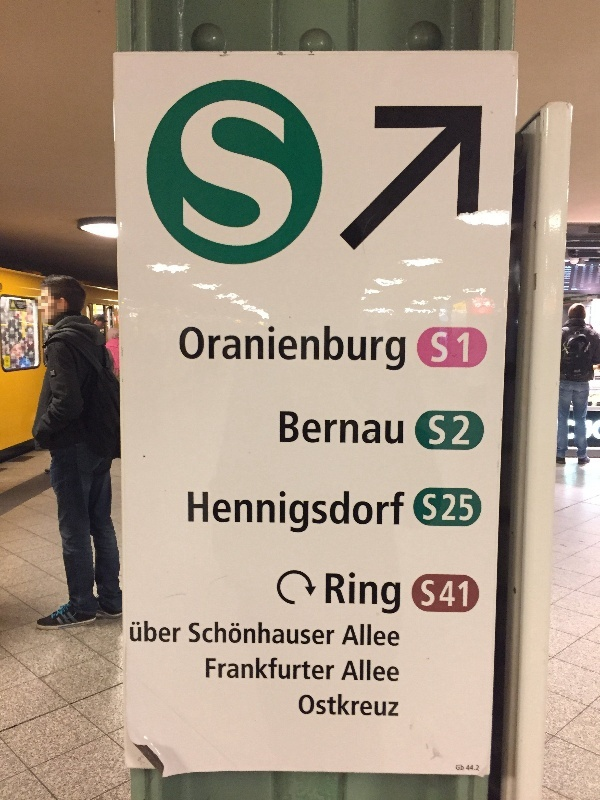text: (193, 100, 208, 261), (209, 100, 224, 261), (225, 100, 240, 261), (241, 100, 256, 261), (257, 100, 272, 261), (273, 100, 288, 261), (183, 100, 192, 261), (289, 100, 295, 261), (193, 326, 208, 373), (209, 326, 224, 373), (225, 326, 240, 373), (241, 326, 256, 373), (257, 326, 272, 373), (273, 326, 288, 373), (289, 326, 304, 373), (305, 326, 320, 373), (321, 326, 336, 373), (337, 326, 352, 373), (353, 326, 368, 373), (369, 326, 384, 373), (385, 326, 400, 373), (385, 573, 401, 616), (193, 491, 208, 536), (209, 491, 224, 536), (225, 491, 240, 536), (241, 491, 256, 536), (257, 491, 272, 536), (273, 491, 288, 536), (289, 491, 304, 536), (305, 491, 320, 536), (321, 491, 336, 536), (337, 491, 352, 536), (353, 491, 368, 536), (369, 491, 384, 536), (385, 491, 400, 536), (337, 573, 352, 616), (353, 573, 368, 616), (369, 573, 384, 616), (181, 326, 192, 373), (433, 332, 449, 364), (289, 412, 304, 446), (305, 412, 320, 446), (321, 412, 336, 446), (337, 412, 352, 446), (353, 412, 368, 446), (369, 412, 384, 446), (385, 412, 400, 446), (321, 654, 337, 682), (433, 415, 447, 447), (449, 494, 464, 523), (326, 573, 336, 616), (209, 654, 224, 682), (225, 654, 240, 682), (241, 654, 256, 682), (257, 654, 272, 682), (273, 654, 288, 682), (289, 654, 304, 682), (305, 654, 320, 682), (321, 621, 337, 646), (385, 623, 401, 648), (385, 659, 401, 684), (449, 582, 464, 608), (193, 621, 208, 646), (209, 621, 224, 646), (225, 621, 240, 646), (241, 621, 256, 646), (257, 621, 272, 646), (273, 621, 288, 646), (289, 621, 304, 646), (305, 621, 320, 646), (353, 623, 368, 648), (369, 623, 384, 648), (353, 659, 368, 684), (369, 659, 384, 684), (145, 620, 160, 644), (161, 620, 176, 644), (305, 693, 320, 717), (321, 693, 336, 717), (337, 693, 352, 717), (353, 693, 368, 717), (369, 693, 384, 717), (385, 693, 400, 717), (453, 415, 464, 447), (131, 620, 144, 644), (401, 326, 407, 373), (280, 412, 288, 446), (401, 491, 407, 536), (465, 494, 474, 523), (423, 579, 432, 607), (424, 492, 432, 522), (458, 332, 464, 363), (441, 582, 448, 608), (188, 491, 192, 536), (465, 415, 470, 447), (433, 492, 438, 522), (401, 412, 405, 446), (465, 332, 469, 363), (177, 620, 182, 644), (299, 693, 304, 717), (467, 765, 480, 774), (444, 494, 448, 523), (465, 582, 469, 608), (349, 659, 352, 684), (456, 764, 464, 773), (430, 415, 432, 447), (206, 654, 208, 682), (433, 579, 435, 607), (190, 621, 192, 646), (350, 623, 352, 648)
